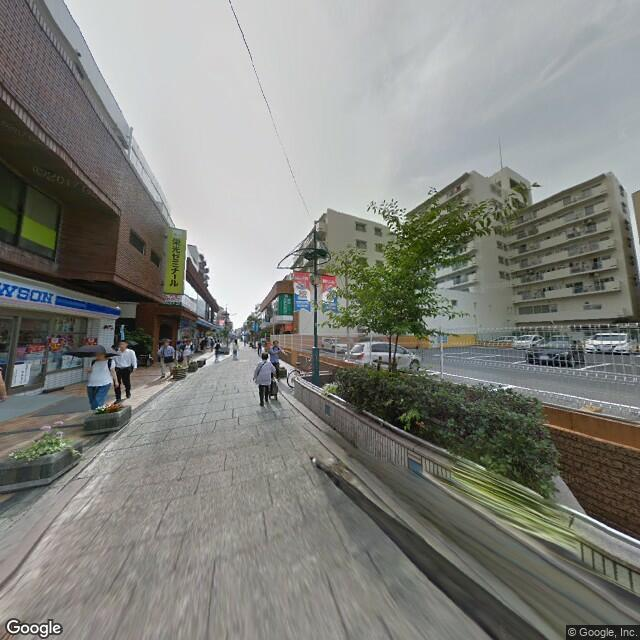lawson: (2, 273, 121, 323)
